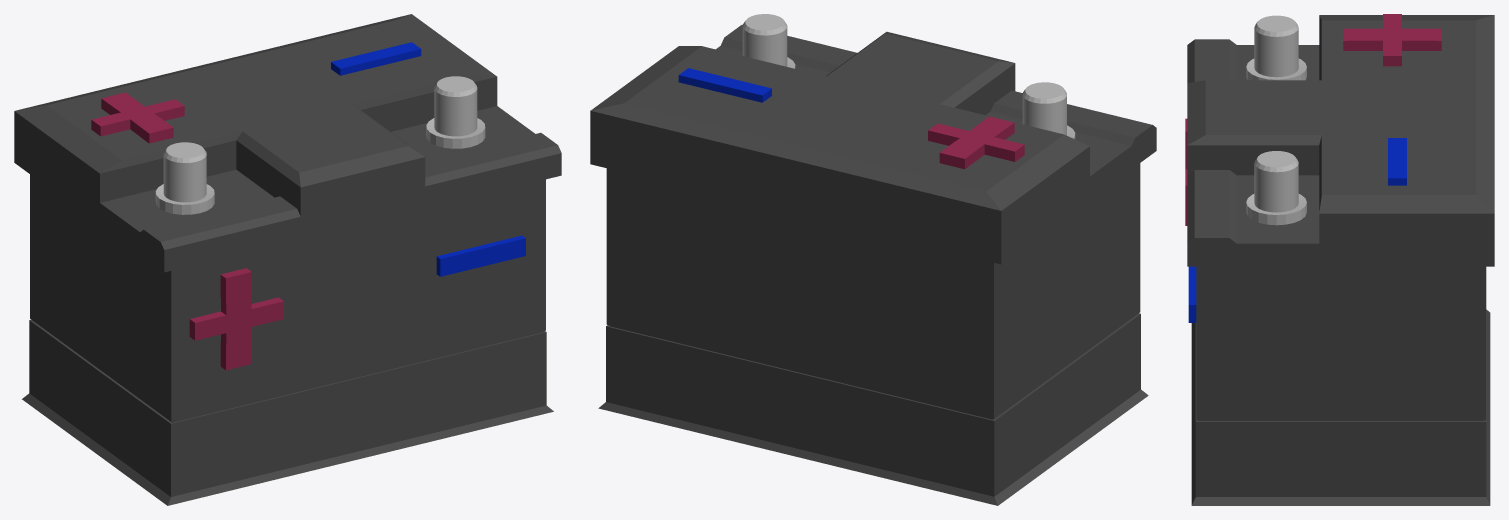
File: PickUp_Batt.fbx
The picture shows the model from 3 angles, left to right: view 1: azimuth 30°, elevation 25°; view 2: azimuth 150°, elevation 25°; view 3: azimuth 270°, elevation 25°; orthographic projection. The views are drawn at different scales.
Parts seen in each view (by area): view 1: PickUp_Batt; view 2: PickUp_Batt; view 3: PickUp_Batt.
Part boxes in pixels (<box>): PickUp_Batt: <box>14,14,561,505</box>; PickUp_Batt: <box>590,14,1156,505</box>; PickUp_Batt: <box>1185,14,1494,505</box>.
Size of the model in its own units: 58.03 by 43.37 by 38.19.
